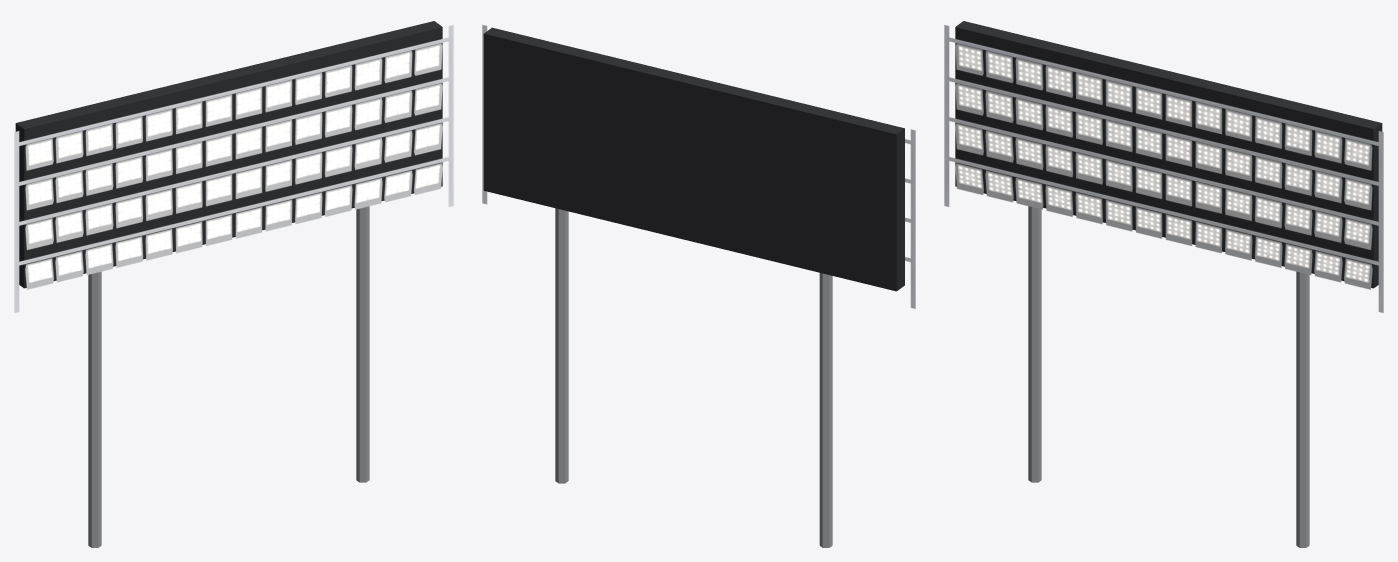
The model's file is light_bank_far.glb.
3 renders of one model, left to right at view 1: azimuth 30°, elevation 25°; view 2: azimuth 150°, elevation 25°; view 3: azimuth 330°, elevation 25°, orthographic.
Visible parts, largest first — view 1: light_bank_far_face, light_bank_far_housing, light_bank_far_steel; view 2: light_bank_far_housing, light_bank_far_steel, light_bank_far_face; view 3: light_bank_far_face, light_bank_far_housing, light_bank_far_steel.
Boxes of the visible parts, x1,y1,x2,y2 form: light_bank_far_face: (14,25,453,312); light_bank_far_housing: (15,21,442,288); light_bank_far_steel: (88,206,369,547); light_bank_far_housing: (483,27,904,291); light_bank_far_steel: (555,208,832,547); light_bank_far_face: (482,25,915,308); light_bank_far_face: (944,25,1383,312); light_bank_far_housing: (955,21,1382,288); light_bank_far_steel: (1028,206,1309,547).
Size of the model in its own units: 10.56 by 10.31 by 0.37.
3 materials, 1 textured.
